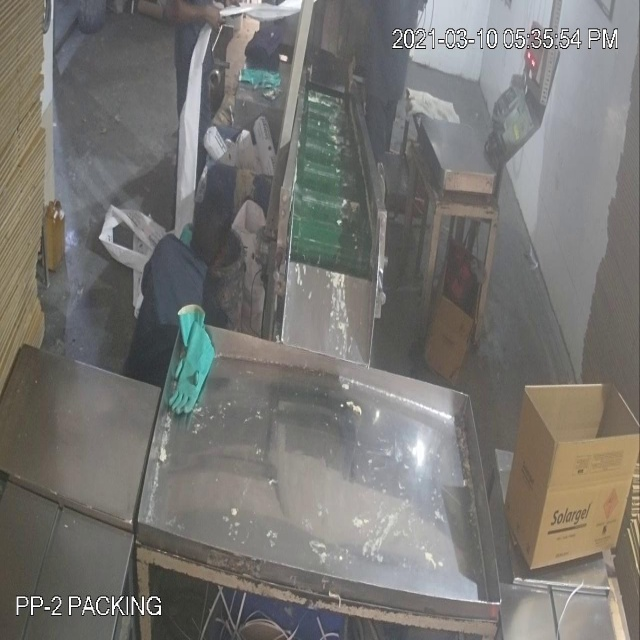Sin_guantes: (157, 1, 228, 40)
